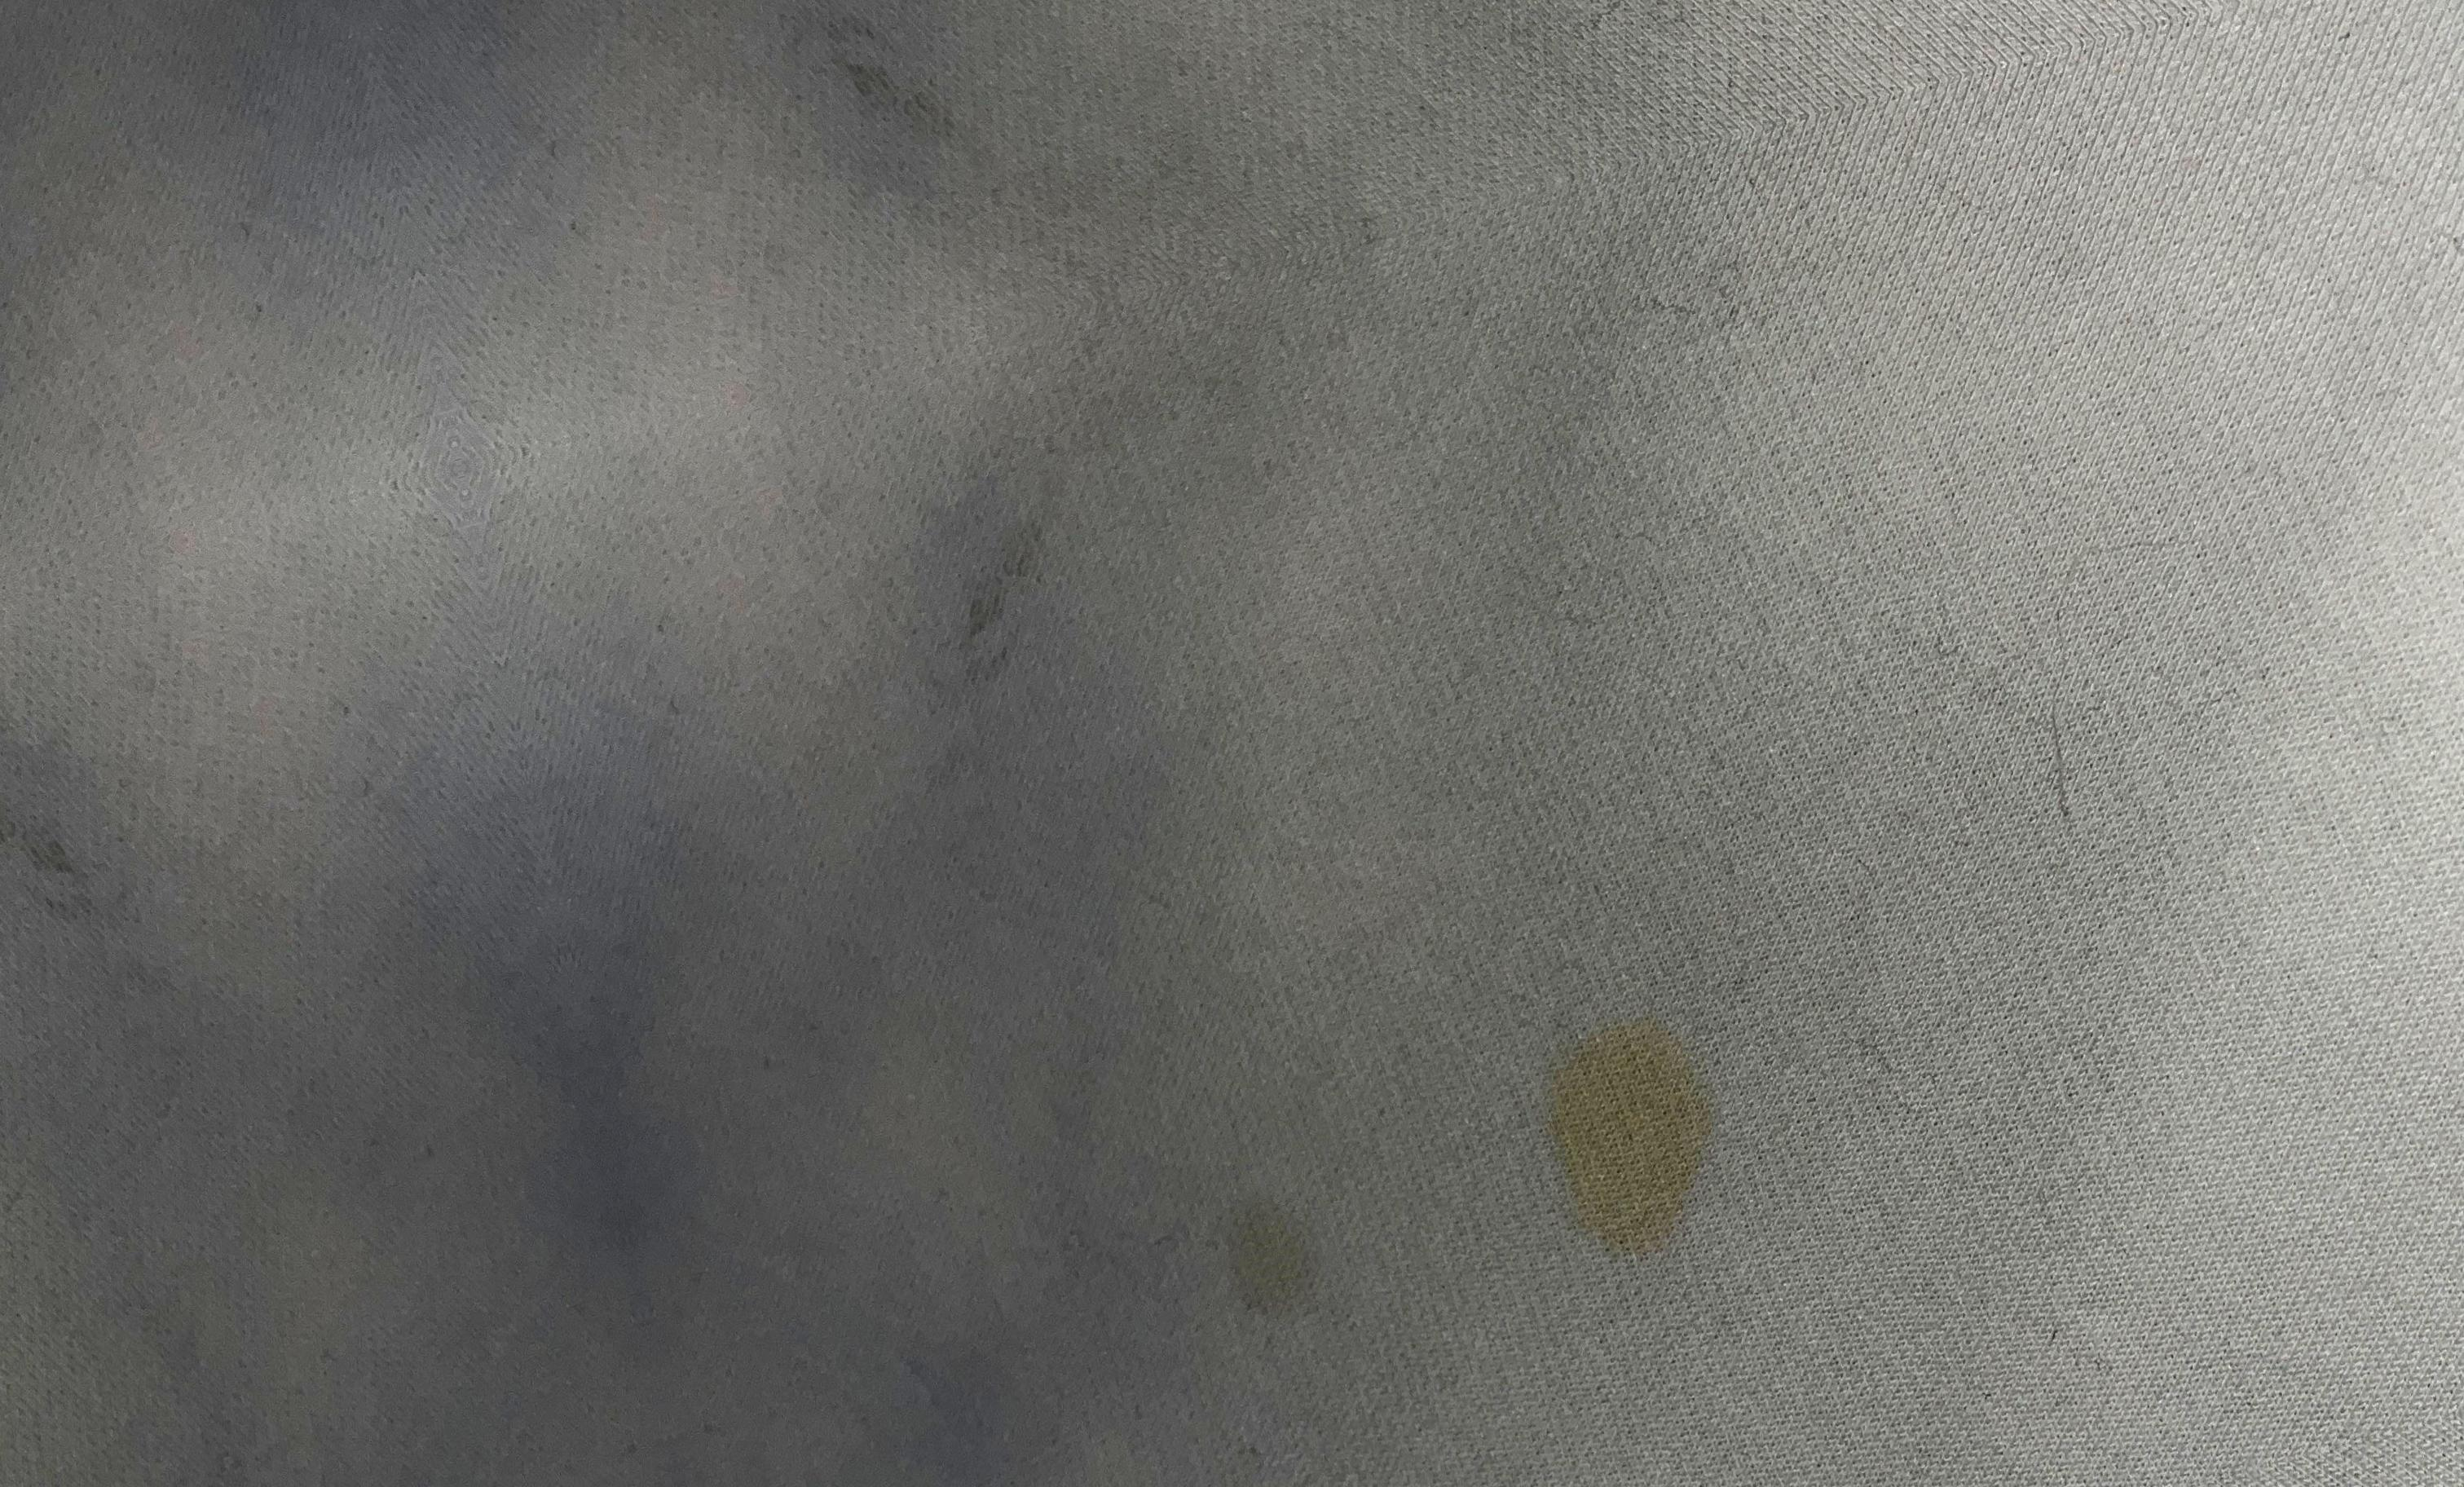stain: (1519, 1000, 1741, 1278), (1188, 1170, 1336, 1334)
